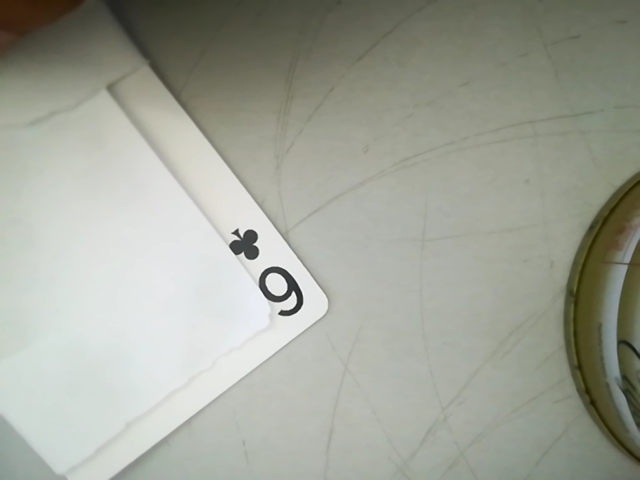mh 6: (221, 214, 307, 319)
